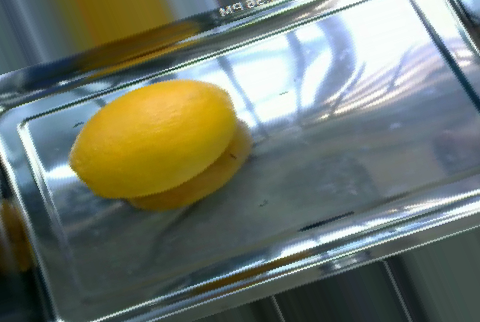Orange: (66, 78, 237, 199)
